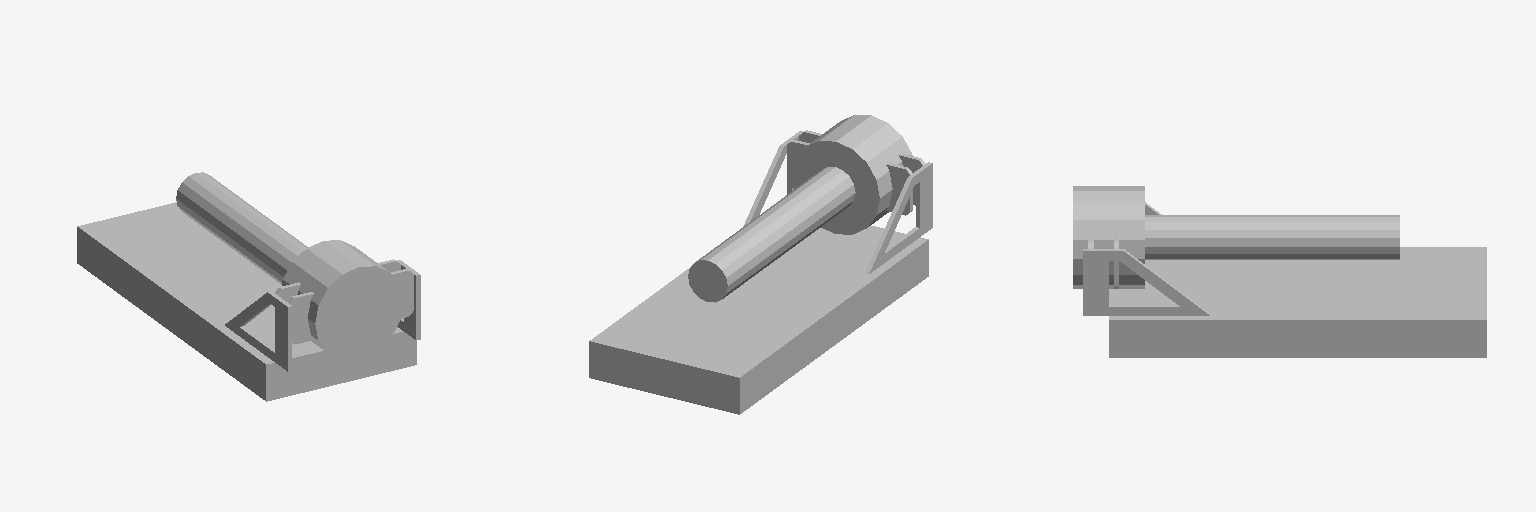
Rendered from BDD_Mat05.obj.
3 views of the same model, side by side, from view 1: azimuth 30°, elevation 25°; view 2: azimuth 150°, elevation 25°; view 3: azimuth 270°, elevation 25° (orthographic).
Parts seen in each view (by area): view 1: Line17, Cylinder11, Mat05, Line18, Line21, Line19; view 2: Line17, Mat05, Cylinder11, Line18, Line20, Line19, Line21; view 3: Line17, Mat05, Cylinder11, Line19.
Part boxes in pixels (x1,y1,x2,y2): Line17: (77,202,416,401); Cylinder11: (282,240,403,359); Mat05: (176,172,308,284); Line18: (225,291,291,371); Line21: (288,269,413,344); Line19: (397,260,420,340); Line17: (589,226,928,414); Mat05: (688,167,855,302); Cylinder11: (792,115,912,234); Line18: (864,162,932,274); Line20: (787,140,912,215); Line19: (743,131,802,226); Line21: (799,130,924,205); Line17: (1109,247,1486,357); Mat05: (1145,215,1399,259); Cylinder11: (1073,186,1144,288); Line19: (1083,249,1210,315).
Bounding box in the file's own units: 0.34 × 0.28 × 0.81.